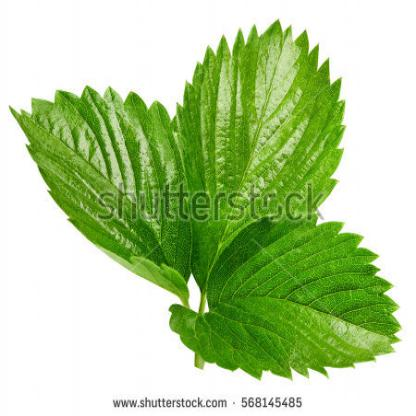strawberry leaf: (1, 84, 202, 310), (183, 20, 348, 284), (158, 221, 413, 383)
